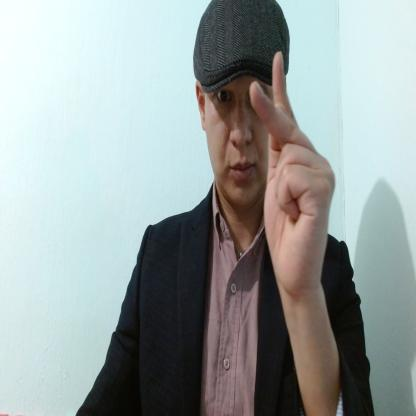P: (250, 46, 338, 296)
